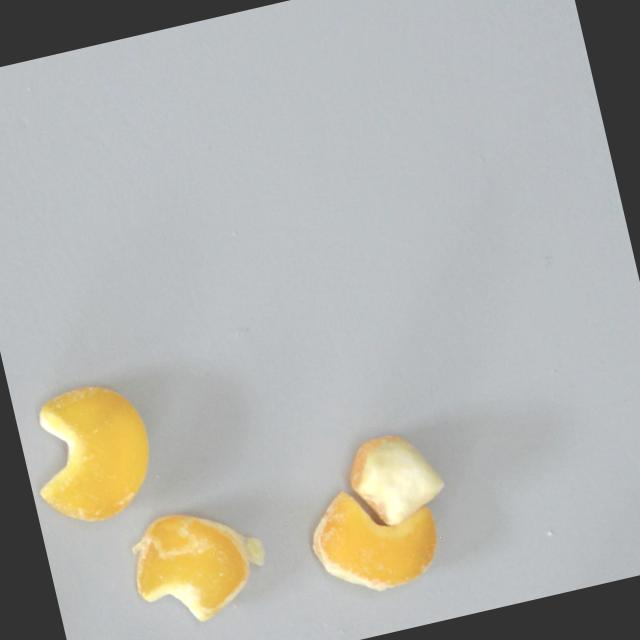pelicula: (16, 375, 166, 533), (121, 495, 267, 635), (301, 472, 448, 606), (342, 422, 454, 530)
